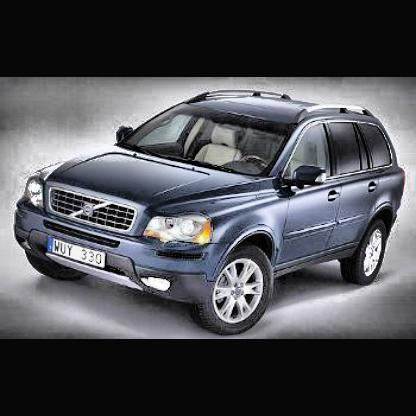Volvo XC90 SUV 2007: (9, 86, 407, 337)
